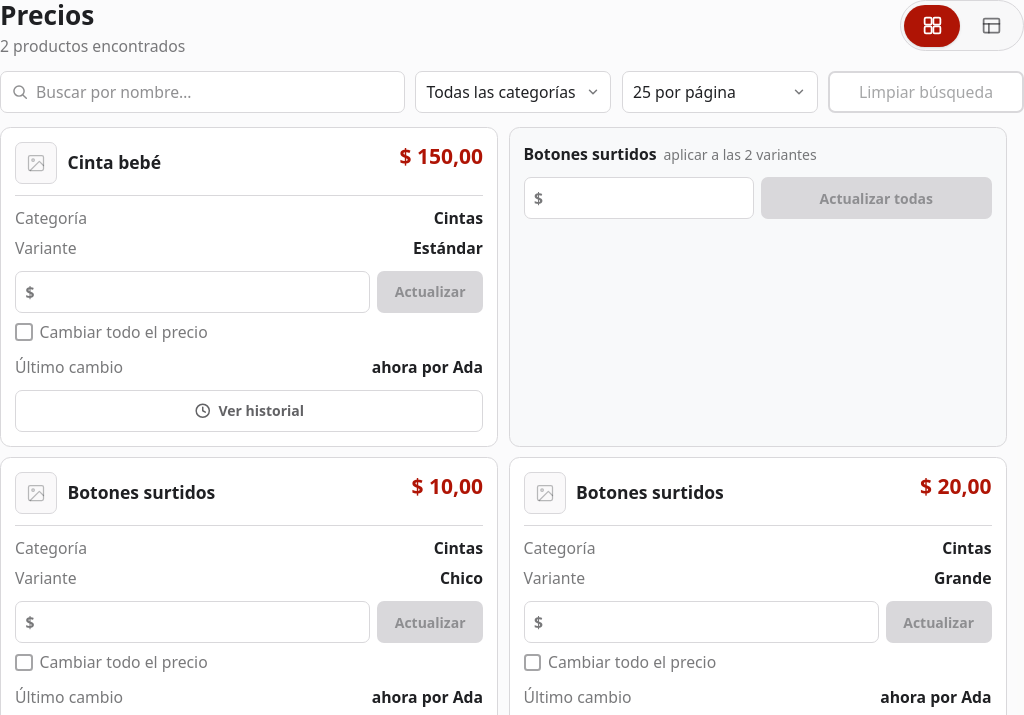
Test case: PricingPage › subtracts a negative amount typed with the minus sign
Expected: the text "Cinta bebé" is shown, 68,152 -> 161,174
In the field named "Cuánto sumar o restar a Cinta bebé Estándar": (193,292) 15,271 -> 370,313, type "-50"
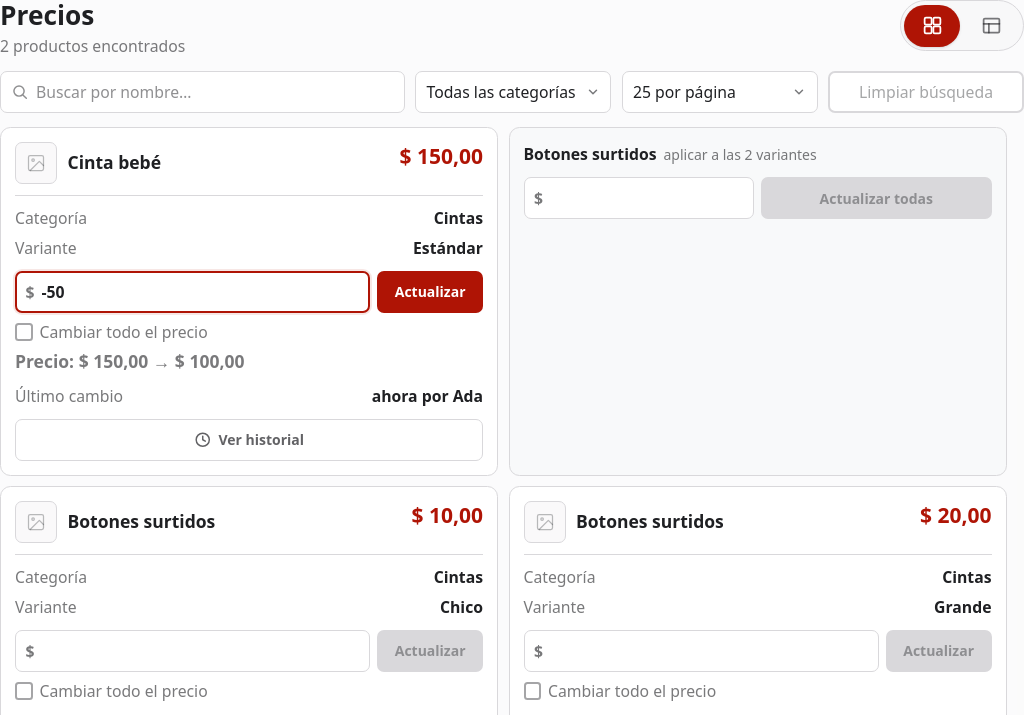
Result: the text with test id "delta-preview" reads "Precio: $ 150,00 → $ 100,00" at 15,349 -> 244,373
Click the button "Actualizar" below "Estándar": (430,292) 377,271 -> 483,313
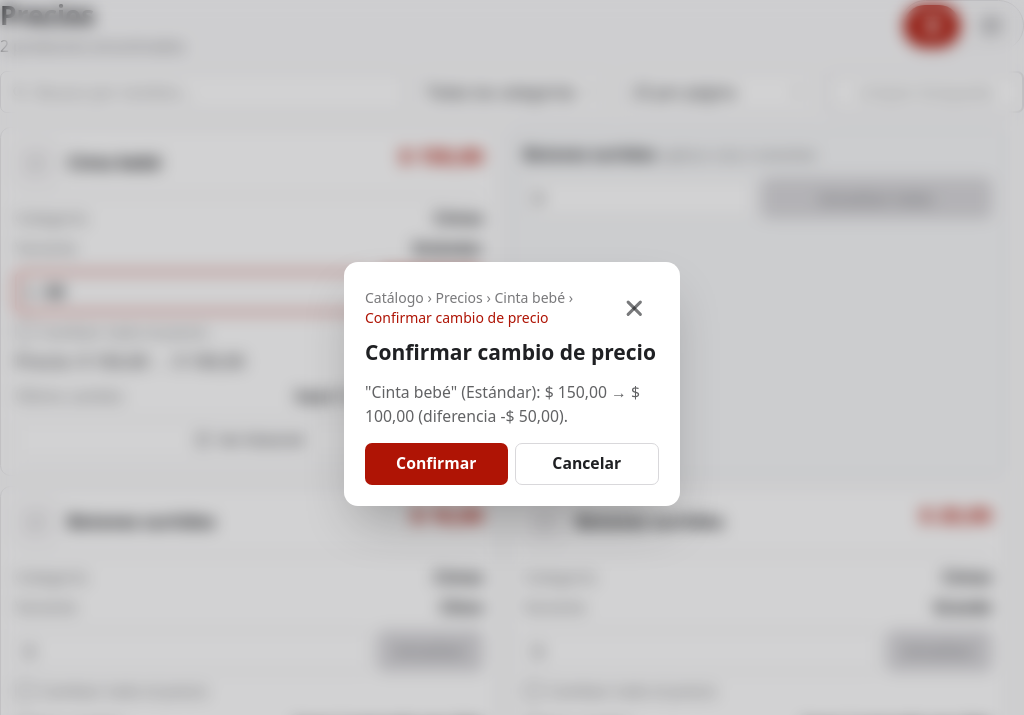
Click the button "Confirmar": (436,464) 365,443 -> 508,485
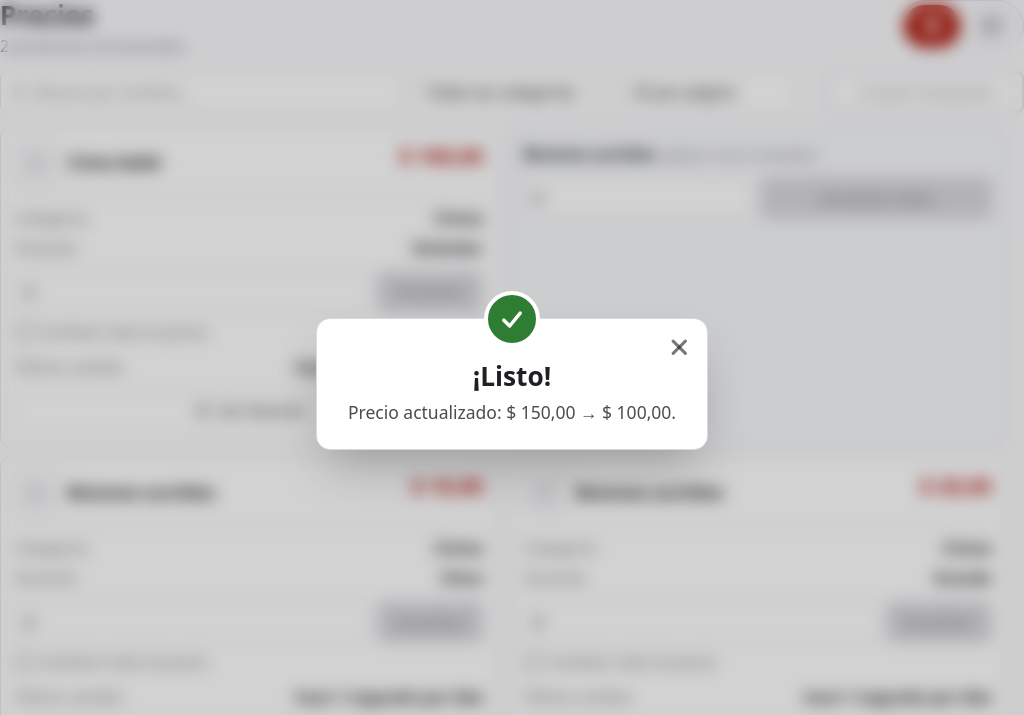
Result: the dialog is gone
